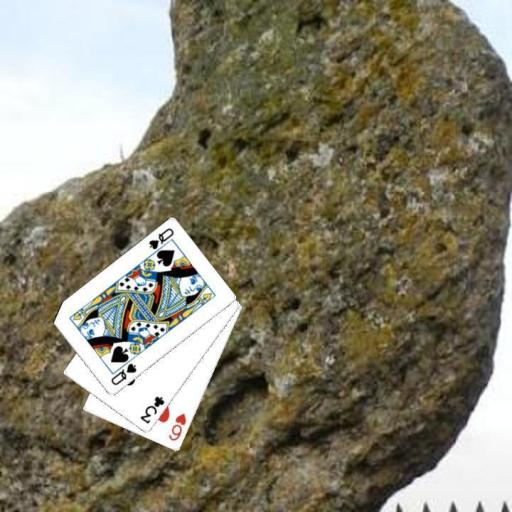card-corner: (136, 393, 166, 426), (107, 360, 138, 387), (146, 225, 176, 251), (166, 410, 188, 442)
